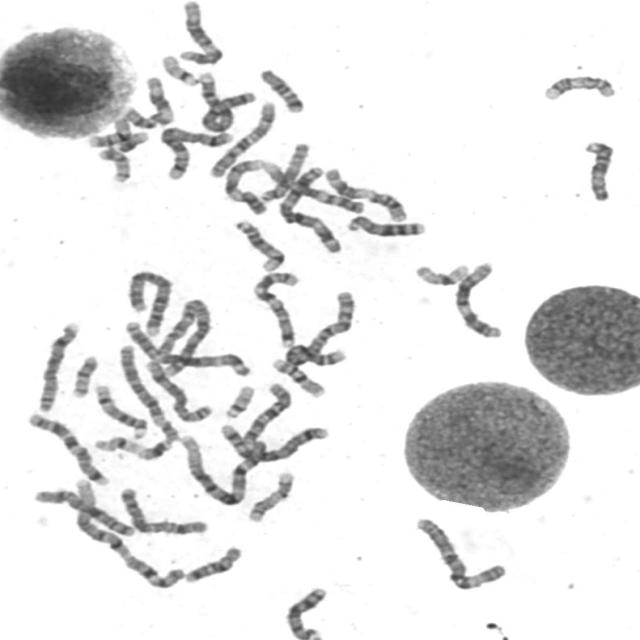A1: (61, 477, 191, 591), (176, 430, 270, 506)
A2: (281, 286, 358, 369), (154, 295, 214, 378)
A3: (118, 316, 253, 376), (271, 160, 344, 254)
B4: (193, 71, 258, 130), (123, 267, 171, 339)
B5: (215, 418, 330, 464), (156, 124, 236, 181)
C10: (204, 97, 278, 179), (237, 378, 295, 444)
C11: (320, 164, 410, 223), (118, 72, 177, 131)
C12: (451, 259, 507, 340), (173, 0, 226, 66)
C6: (411, 513, 509, 591), (115, 339, 182, 444)
C7: (23, 409, 111, 488), (246, 267, 302, 349)
C8: (141, 356, 216, 424), (32, 318, 84, 414)
C9: (258, 160, 368, 216), (219, 154, 271, 217)
D13: (282, 583, 330, 639), (342, 212, 428, 238)
D14: (90, 380, 150, 440), (230, 216, 287, 273)
D15: (256, 139, 312, 204), (580, 137, 616, 203)
E16: (268, 353, 328, 399), (84, 124, 149, 148)
E17: (243, 467, 297, 524), (539, 71, 619, 102)
E18: (180, 542, 244, 585), (256, 64, 306, 114)
F19: (410, 258, 472, 288), (90, 432, 146, 457)
F20: (66, 351, 101, 399), (94, 145, 133, 184)
G21: (109, 126, 154, 158), (133, 435, 175, 461)
G22: (157, 52, 202, 88), (220, 381, 257, 420)
X: (29, 485, 138, 538), (115, 484, 211, 537)
